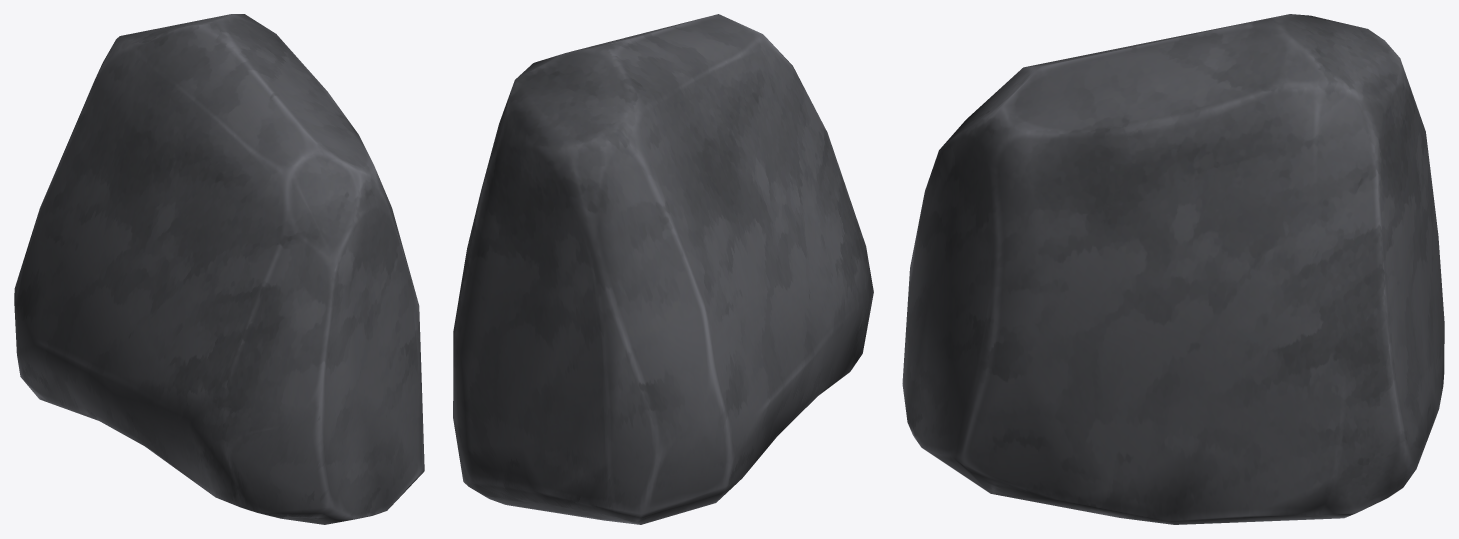
File: Stone5_v1.fbx
3 views of the same model, side by side, from view 1: azimuth 30°, elevation 25°; view 2: azimuth 150°, elevation 25°; view 3: azimuth 270°, elevation 25° (orthographic). The views are drawn at different scales.
Visible parts, largest first — view 1: Stone5_v1; view 2: Stone5_v1; view 3: Stone5_v1.
Part boxes in pixels (bbox=[...]): Stone5_v1: bbox=[14, 14, 424, 524]; Stone5_v1: bbox=[453, 14, 873, 524]; Stone5_v1: bbox=[902, 14, 1444, 524].
Size of the model in its own units: 132 by 185 by 200.
Materials: 1 (1 with a texture image).
